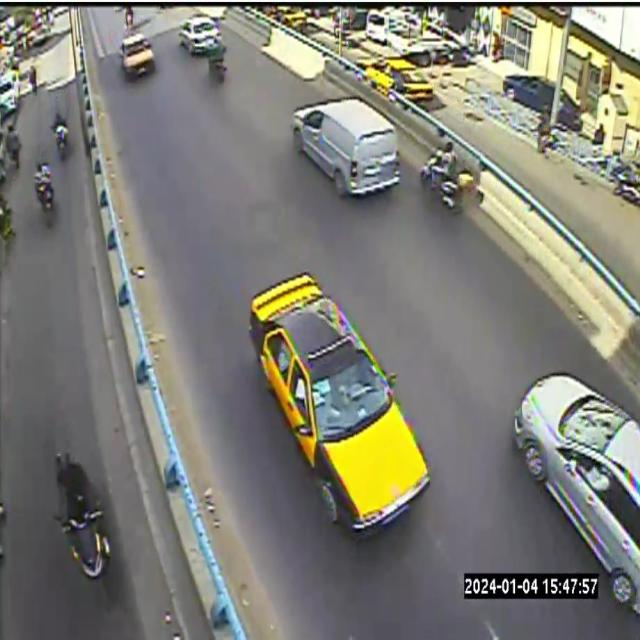car: (514, 373, 639, 613), (514, 374, 639, 612), (515, 374, 639, 612), (503, 75, 554, 112), (558, 90, 582, 132), (0, 70, 19, 121), (559, 90, 582, 132)
